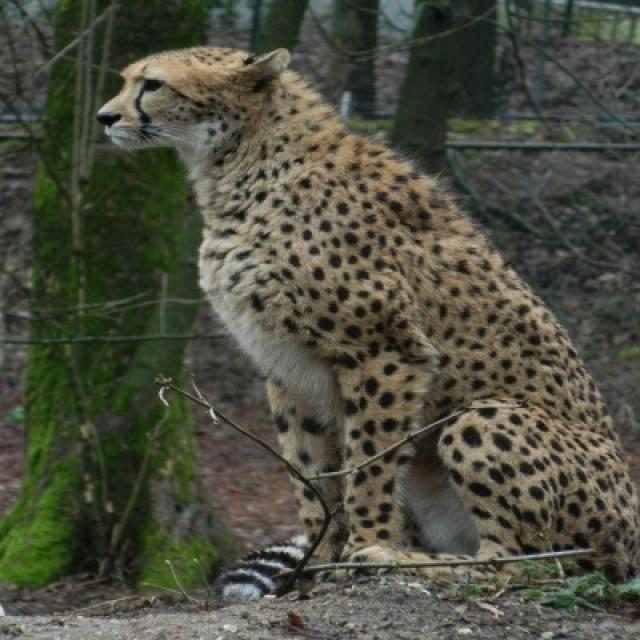Cheetah: (99, 46, 638, 579)
